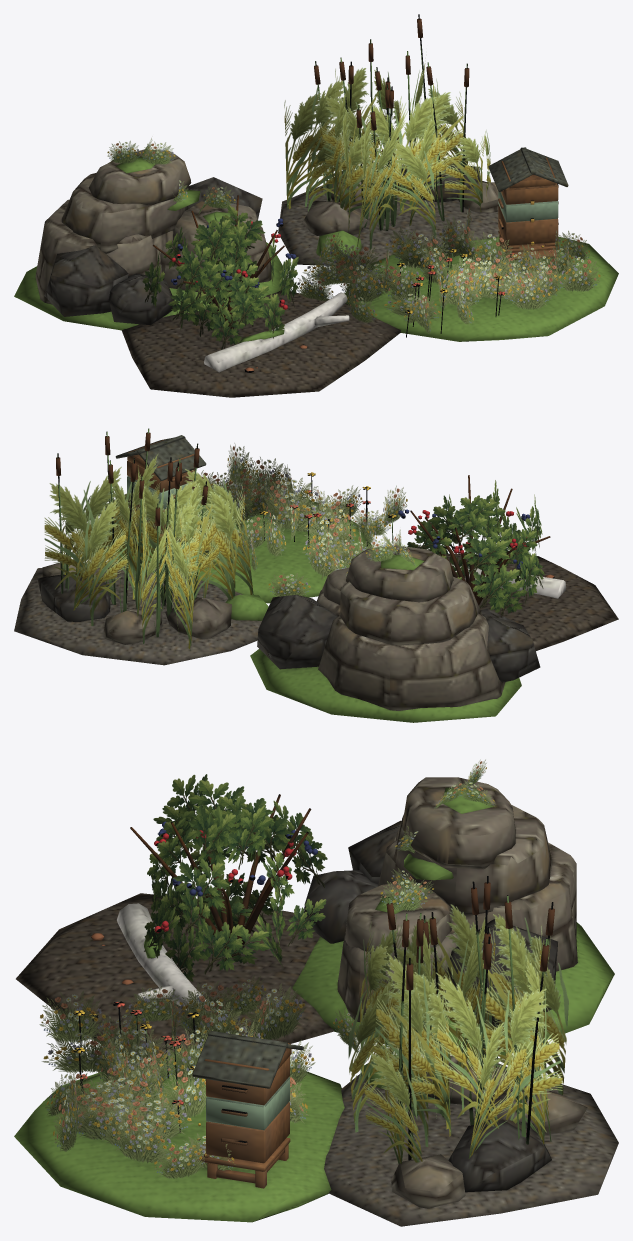
File: wild_understory_pack.glb
The picture shows the model from 3 angles, top to bottom: view 1: azimuth 30°, elevation 25°; view 2: azimuth 150°, elevation 25°; view 3: azimuth 270°, elevation 25°; orthographic projection. The views are drawn at different scales.
Visible parts, largest first — view 1: WildPack_Struct, WildPack_Reeds, WildPack_Wildflowers, WildPack_BerryLeaves; view 2: WildPack_Struct, WildPack_Reeds, WildPack_Wildflowers, WildPack_BerryLeaves; view 3: WildPack_Struct, WildPack_Reeds, WildPack_Wildflowers, WildPack_BerryLeaves.
Boxes of the visible parts, <box> form: WildPack_Struct: <box>14,14,618,397</box>; WildPack_Reeds: <box>284,63,490,253</box>; WildPack_Wildflowers: <box>107,138,600,333</box>; WildPack_BerryLeaves: <box>142,205,298,349</box>; WildPack_Struct: <box>14,428,618,722</box>; WildPack_Reeds: <box>44,454,253,650</box>; WildPack_Wildflowers: <box>180,443,415,596</box>; WildPack_BerryLeaves: <box>407,480,544,615</box>; WildPack_Struct: <box>14,777,618,1226</box>; WildPack_Reeds: <box>348,904,568,1164</box>; WildPack_Wildflowers: <box>39,759,495,1178</box>; WildPack_BerryLeaves: <box>144,774,327,981</box>.
Size of the model in its own units: 5.33 by 1.78 by 4.02.
Materials: 5 (5 with a texture image).
